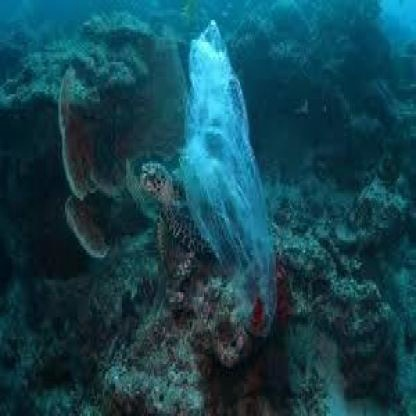pbag: (178, 17, 278, 342)
